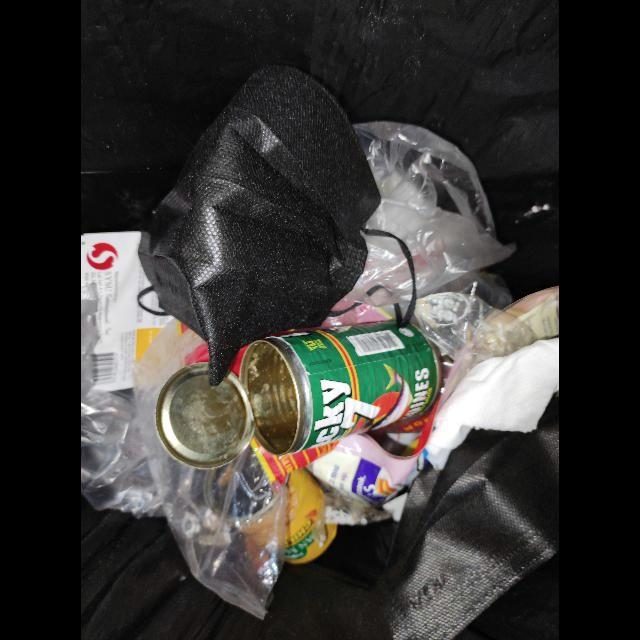aluminum: (155, 323, 441, 470)
food_wrapper: (83, 231, 209, 392)
paper: (424, 338, 560, 472)
